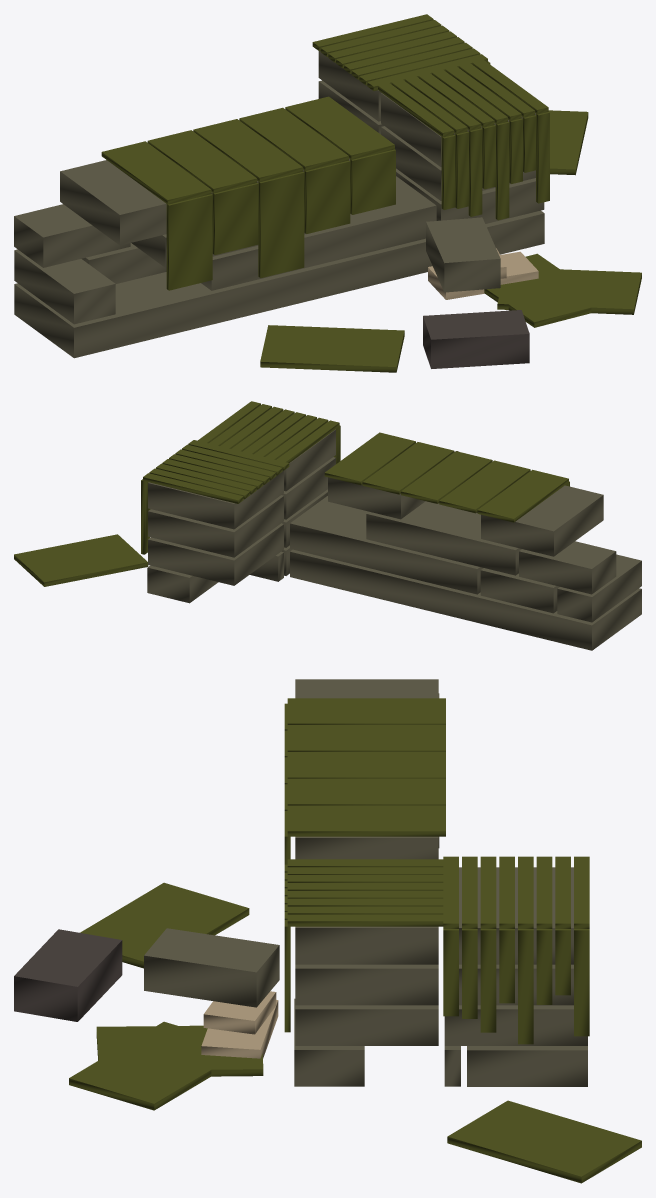
The model's file is SM_SacosRemateEspejo_v4_Red_e1_Danado_LOD1.fbx.
3 views of the same model, one above another, from view 1: azimuth 30°, elevation 25°; view 2: azimuth 150°, elevation 25°; view 3: azimuth 270°, elevation 25° (orthographic). The views are drawn at different scales.
Visible parts, largest first — view 1: SM_sacos_piezas_v37_LOD1; view 2: SM_sacos_piezas_v37_LOD1; view 3: SM_sacos_piezas_v37_LOD1.
Part boxes in pixels (left/top/right/bottom): SM_sacos_piezas_v37_LOD1: left=14, top=14, right=641, bottom=372; SM_sacos_piezas_v37_LOD1: left=14, top=401, right=641, bottom=650; SM_sacos_piezas_v37_LOD1: left=14, top=679, right=641, bottom=1183.
Bounding box in the file's own units: 5.87 × 1.24 × 4.2.
